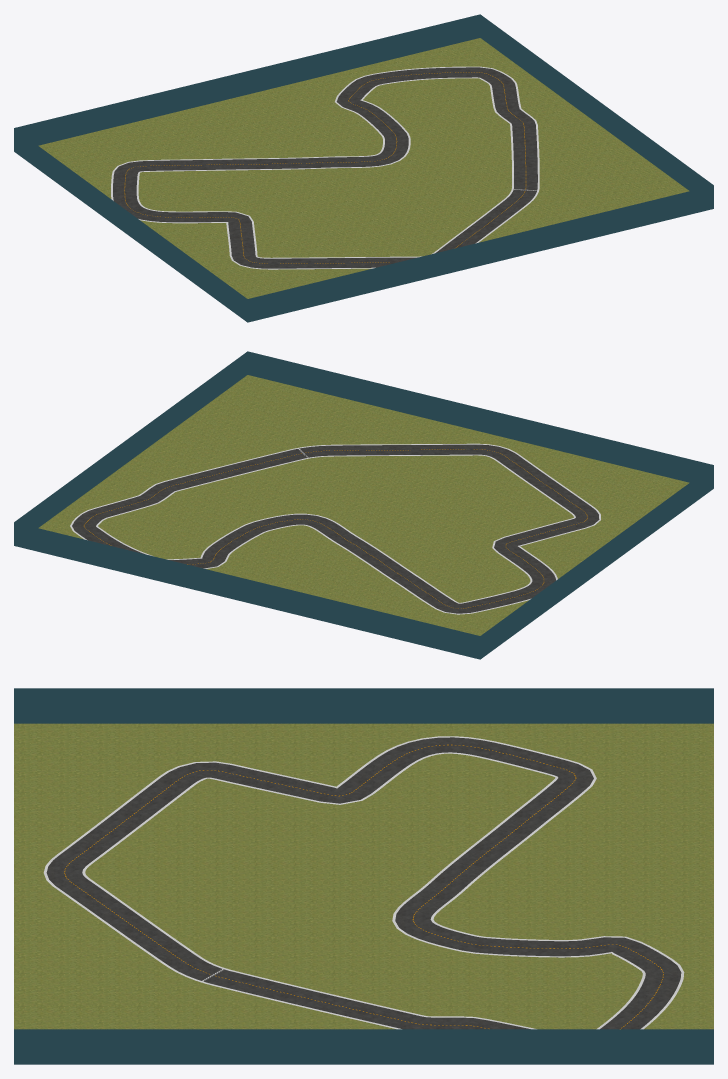
Rendered from 2022_september_pro_ccw.dae.
3 views of the same model, one above another, from view 1: azimuth 30°, elevation 25°; view 2: azimuth 150°, elevation 25°; view 3: azimuth 270°, elevation 25° (orthographic). The views are drawn at different scales.
Parts seen in each view (by area): view 1: field, wall, road, ol, il, cl; view 2: field, wall, road, ol, il, cl; view 3: field, wall, road, il, ol, cl.
Part boxes in pixels (bbox=[...]): field: bbox=[38, 38, 689, 298]; wall: bbox=[14, 14, 713, 322]; road: bbox=[113, 67, 537, 269]; ol: bbox=[136, 77, 513, 258]; il: bbox=[111, 66, 539, 269]; cl: bbox=[124, 72, 526, 263]; field: bbox=[38, 375, 689, 635]; wall: bbox=[14, 351, 713, 659]; road: bbox=[72, 444, 599, 613]; ol: bbox=[96, 454, 575, 603]; il: bbox=[70, 443, 600, 614]; cl: bbox=[84, 449, 587, 608]; field: bbox=[14, 723, 713, 1029]; wall: bbox=[14, 688, 713, 1064]; road: bbox=[46, 737, 681, 1029]; il: bbox=[43, 736, 684, 1029]; ol: bbox=[82, 752, 645, 1029]; cl: bbox=[64, 744, 663, 1029].
Bounding box in the file's own units: 20.72 × 17.98 × 1.
7 materials, 7 textured.
